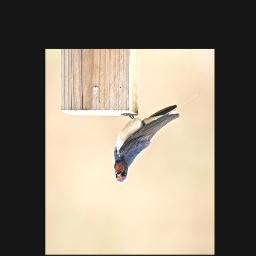Swallow: (113, 92, 201, 185)
